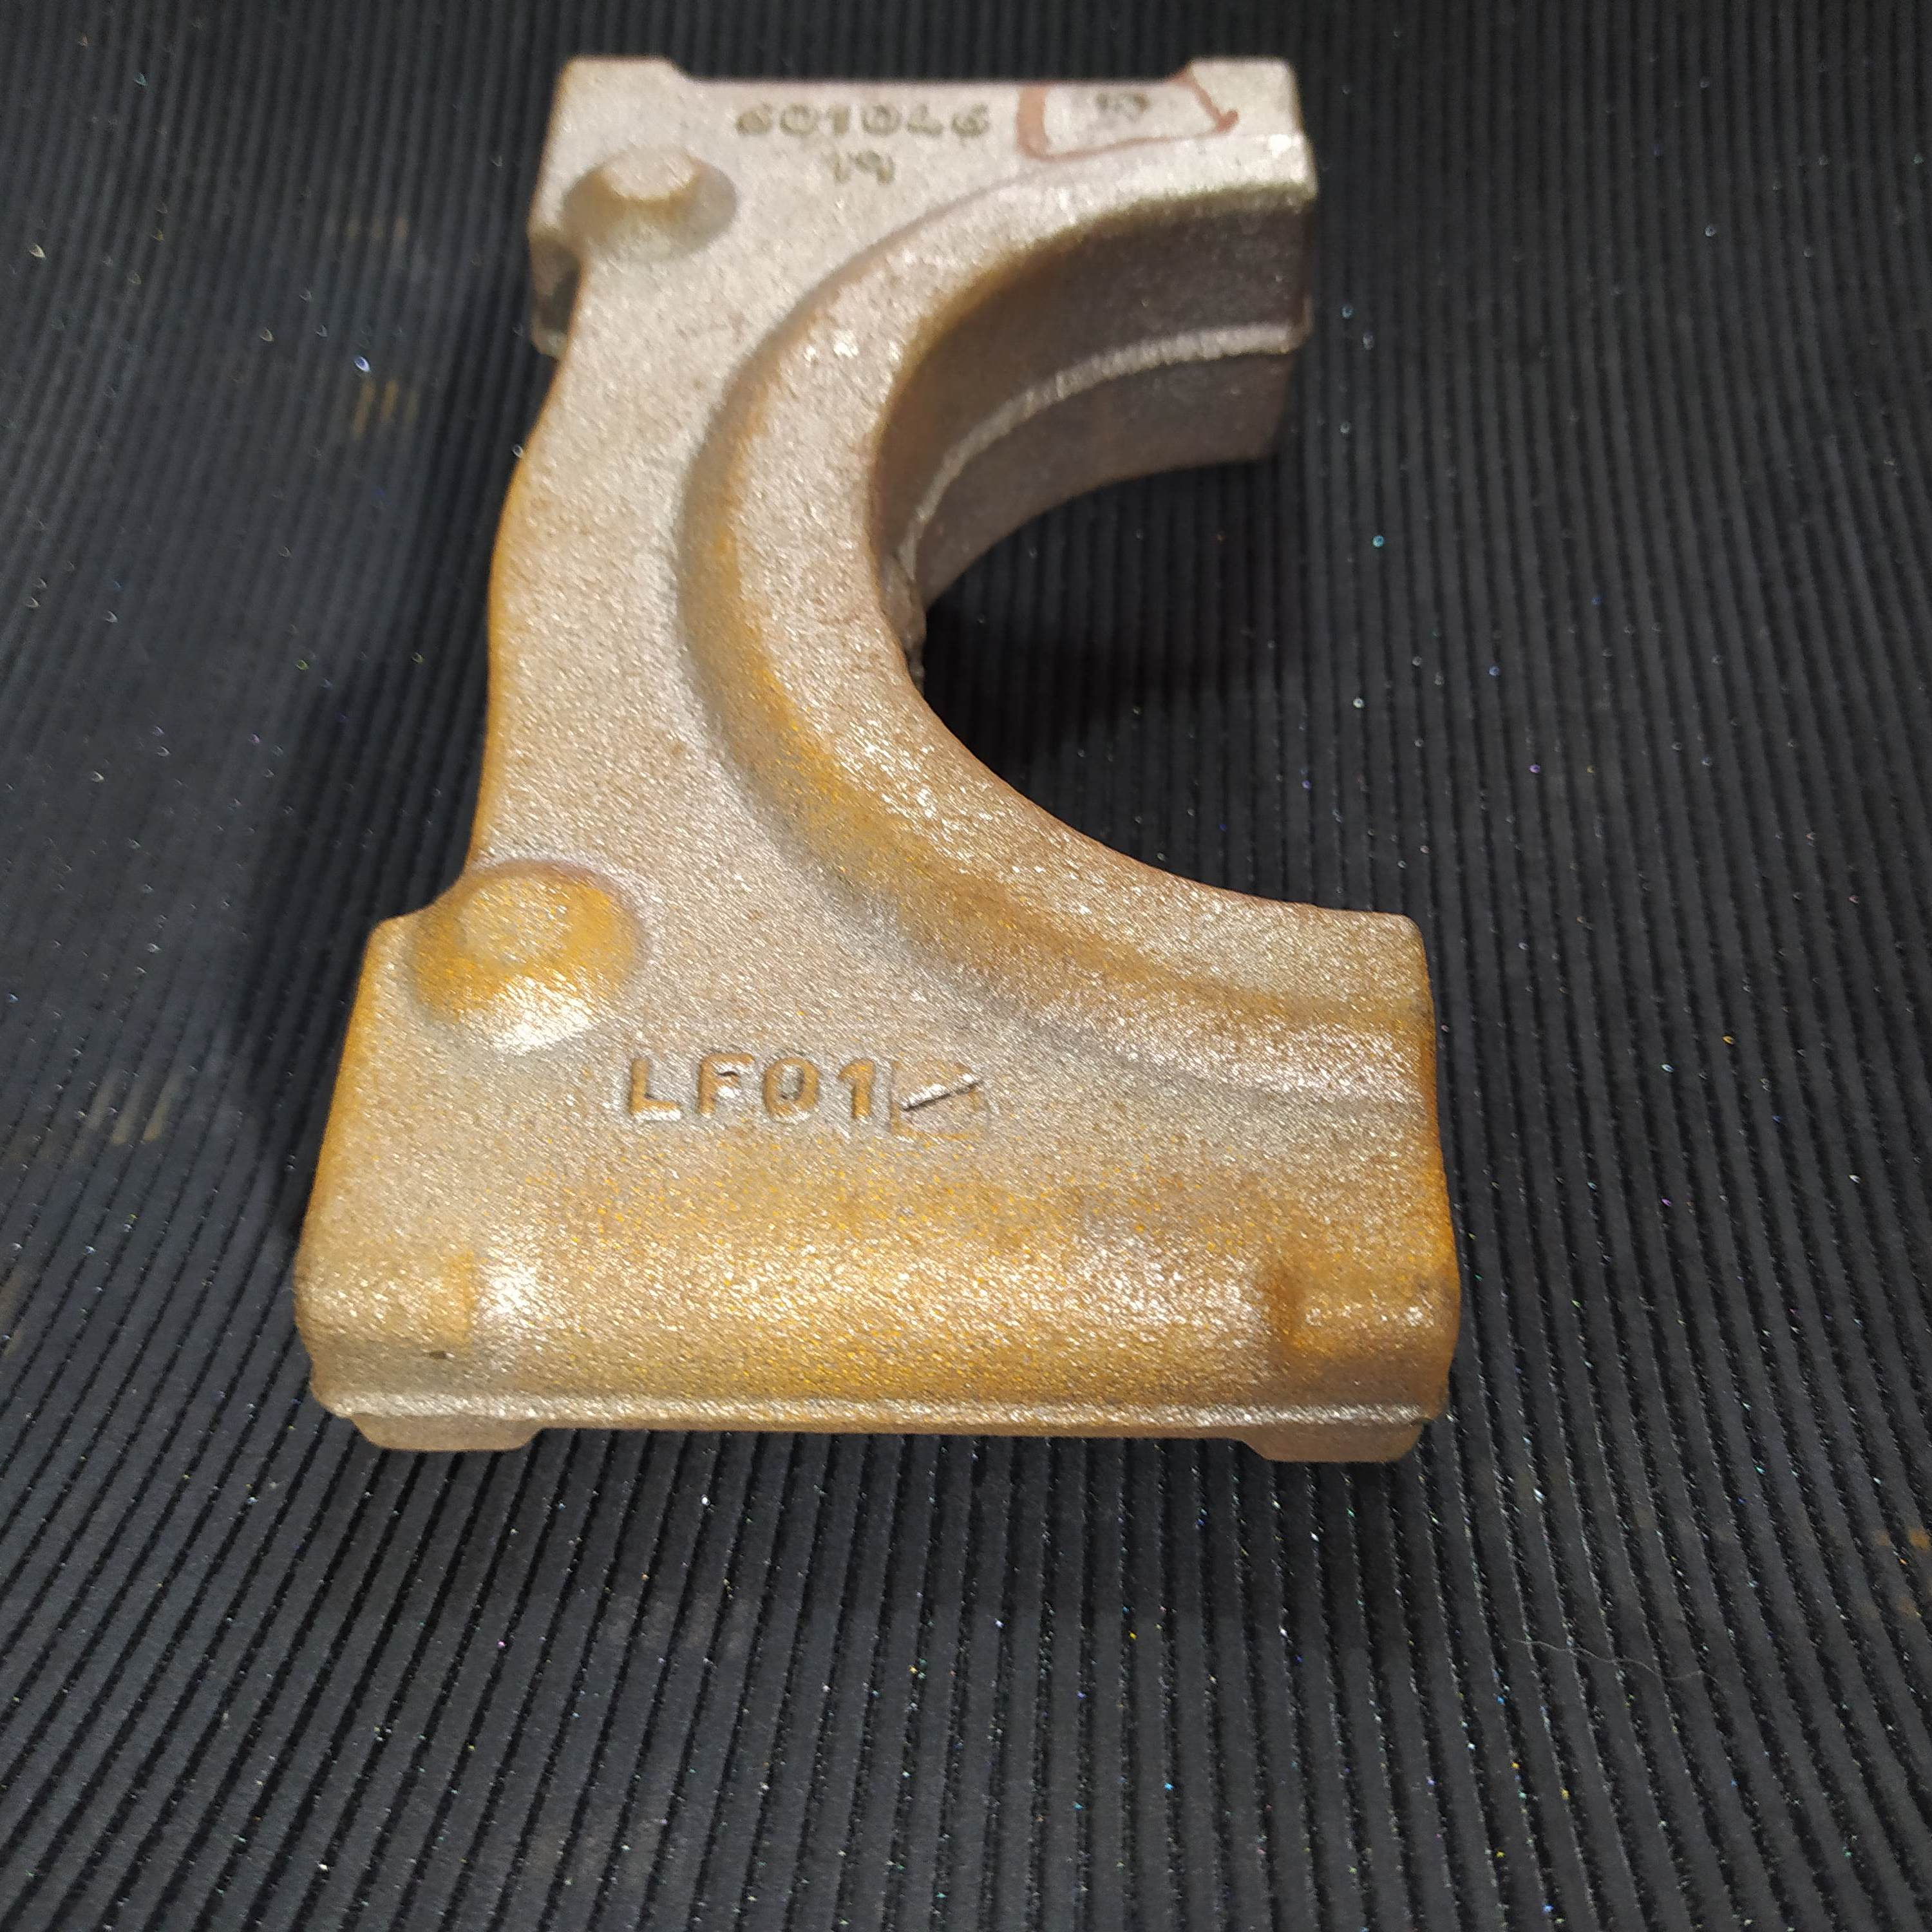buraco: (1092, 81, 1150, 133)
